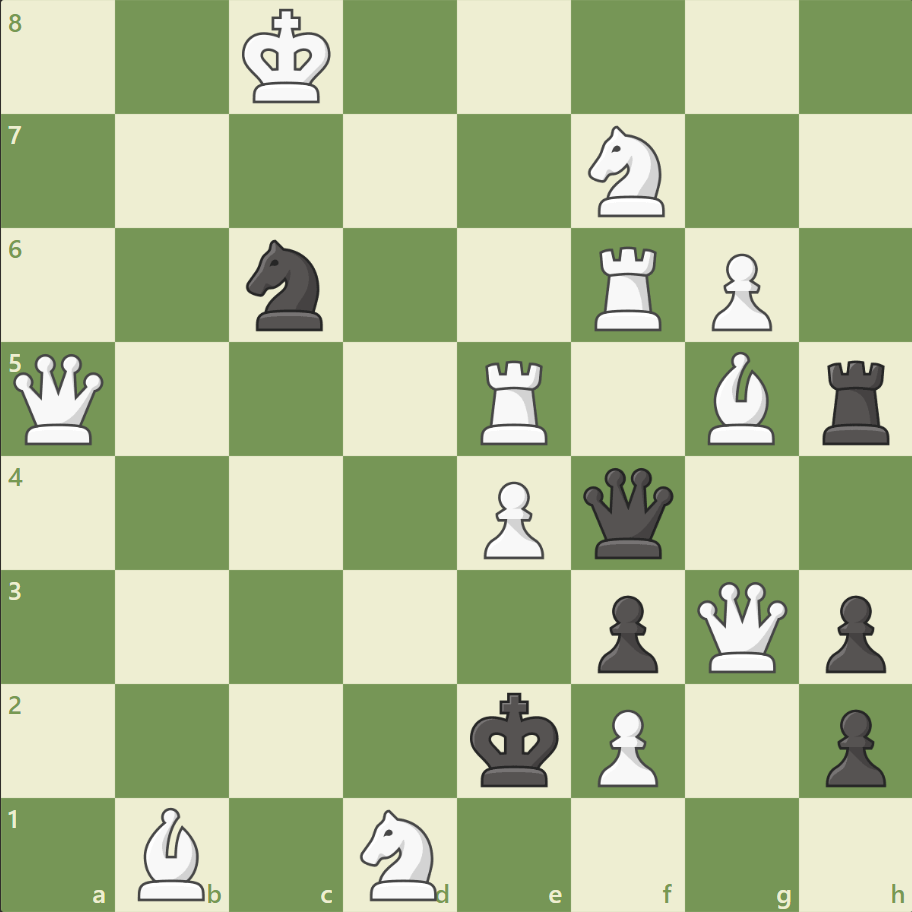B: (131, 801, 215, 904), (698, 347, 782, 449)
K: (238, 4, 338, 112)
N: (351, 802, 449, 904), (579, 121, 676, 223)
P: (701, 246, 776, 337), (474, 473, 549, 564), (588, 700, 662, 791)
Q: (10, 349, 109, 449), (691, 576, 790, 676)
R: (587, 239, 670, 336), (473, 352, 556, 449)
k: (465, 685, 565, 793)
n: (238, 234, 335, 337)
p: (588, 586, 662, 677), (815, 586, 889, 677), (815, 700, 889, 791)
q: (578, 463, 677, 562)
r: (814, 352, 897, 449)
